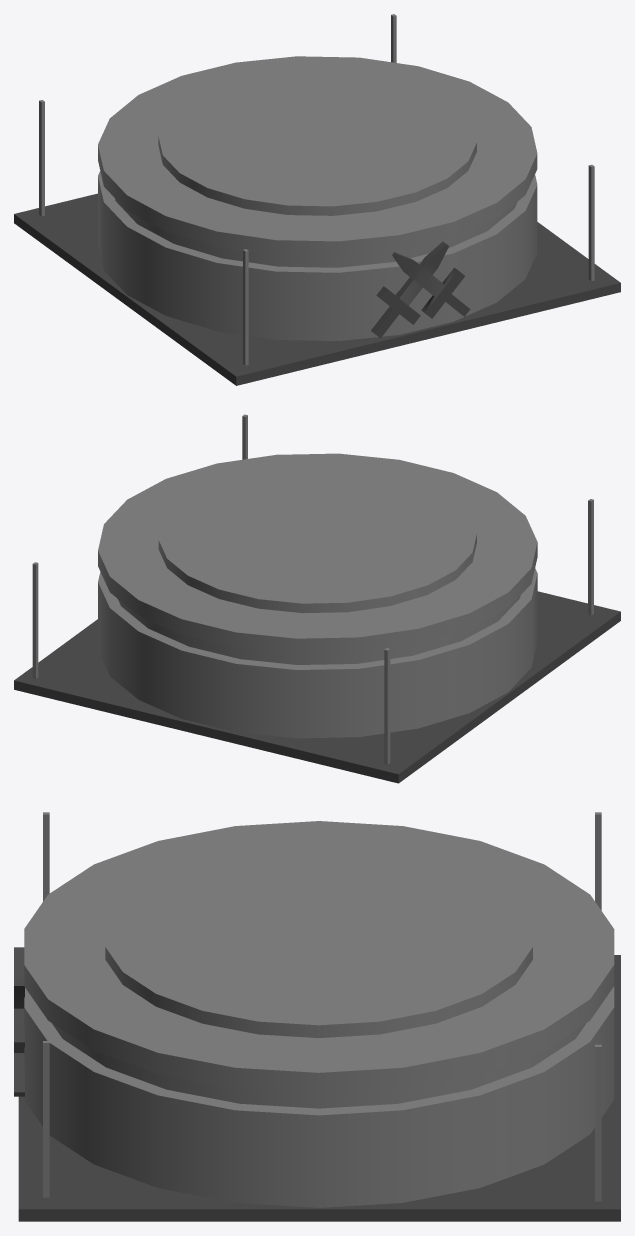
File: weaponpodium 1.fbx
3 renders of one model, top to bottom at view 1: azimuth 30°, elevation 25°; view 2: azimuth 150°, elevation 25°; view 3: azimuth 270°, elevation 25°, orthographic. The views are drawn at different scales.
Visible parts, largest first — view 1: Cylinder001, Box004; view 2: Cylinder001, Box004; view 3: Cylinder001, Box004.
Boxes of the visible parts, x1,y1,x2,y2 form: Cylinder001: (39,14,594,365); Box004: (14,193,620,385); Cylinder001: (32,414,593,764); Box004: (14,591,620,783); Cylinder001: (24,812,614,1207); Box004: (14,947,620,1221).
Bounding box in the file's own units: 101 × 30.96 × 102.
Materials: 2 (2 with a texture image).
